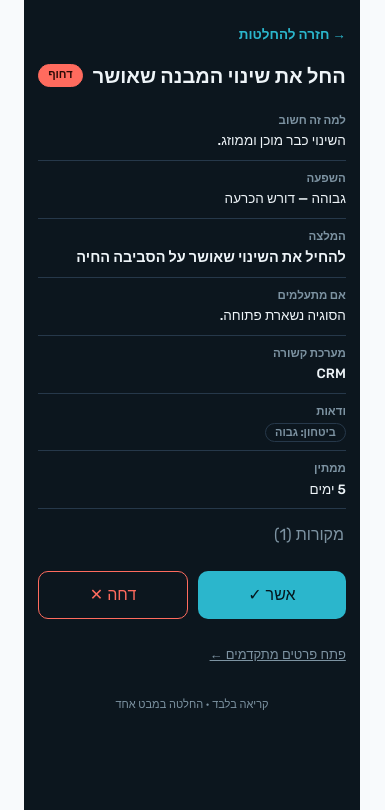
Test case: OwnerDecisionView › offers approve/reject placeholders that explain they are not wired
Click the button with test id "dv-approve" at (272, 595), box [198,571,346,619]
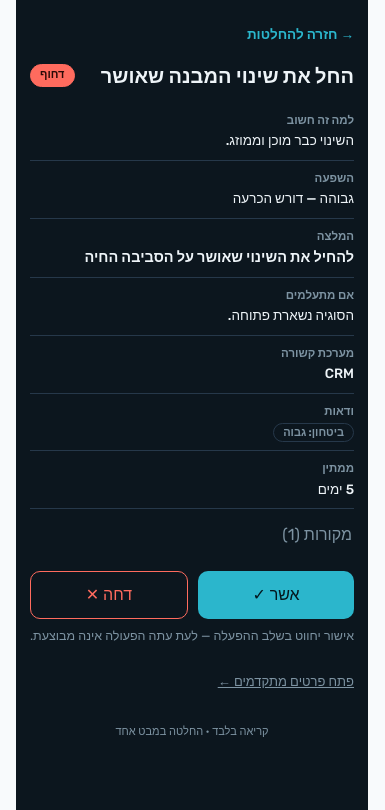
Now the text with test id "dv-action-msg" shows "אינה מבוצעת", box [30,628,354,643]
